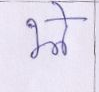o_matra: (58, 0, 72, 56)
